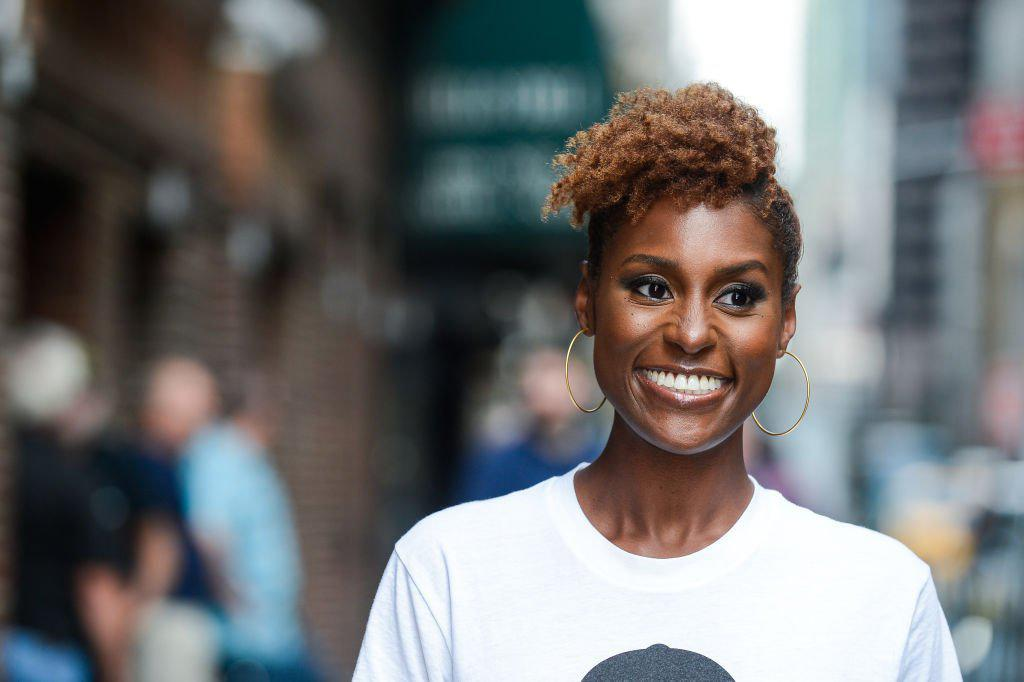Sober: (601, 192, 778, 451)
